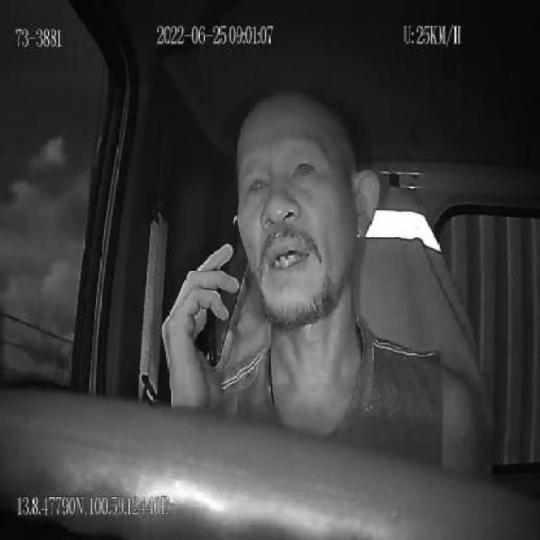phone: (204, 211, 249, 372)
